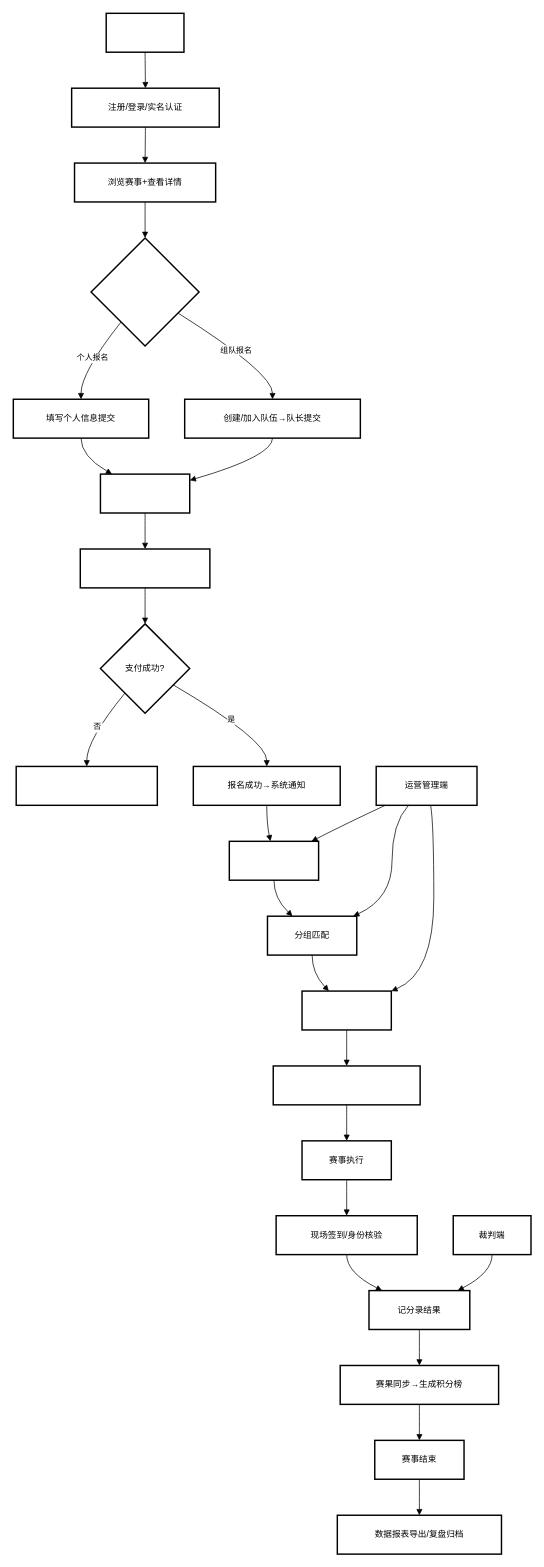
The diagram is 544 pixels wide and 1567 high, and some of its shapes have lost their labels. The shapes that lost their labels are listed below. From the top down, each one's centre as x and y in pixels, then its label:
pixel 144 32: 用户端
pixel 144 291: 报名类型选择
pixel 144 493: 生成订单
pixel 144 568: 微信/支付宝支付
pixel 86 785: 订单异常/重新支付
pixel 273 860: 报名审核
pixel 346 1010: 赛程管理
pixel 346 1085: 推送赛程提醒给用户
